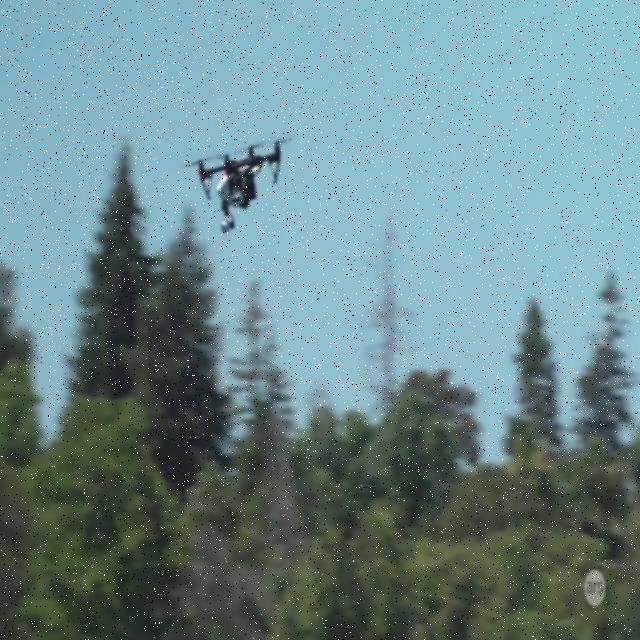UAV: (180, 137, 294, 234)
